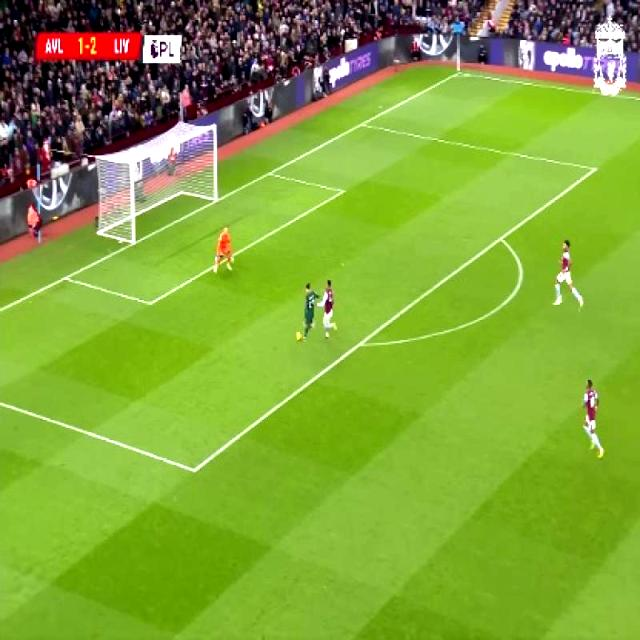bigarea_bottom_inner: (182, 454, 204, 484)
bigarea_top_inner: (585, 157, 603, 180)
bigarea_top_outter: (354, 114, 369, 132)
bottom_arc_area_intersection: (349, 330, 371, 355)
corner: (449, 65, 469, 80)
smallarea_bottom_inner: (138, 288, 160, 317)
smallarea_bottom_outter: (55, 264, 75, 290)
smallarea_top_inner: (332, 178, 351, 202)
smallarea_top_outter: (260, 162, 277, 183)
top_arc_area_intersection: (492, 226, 508, 248)
